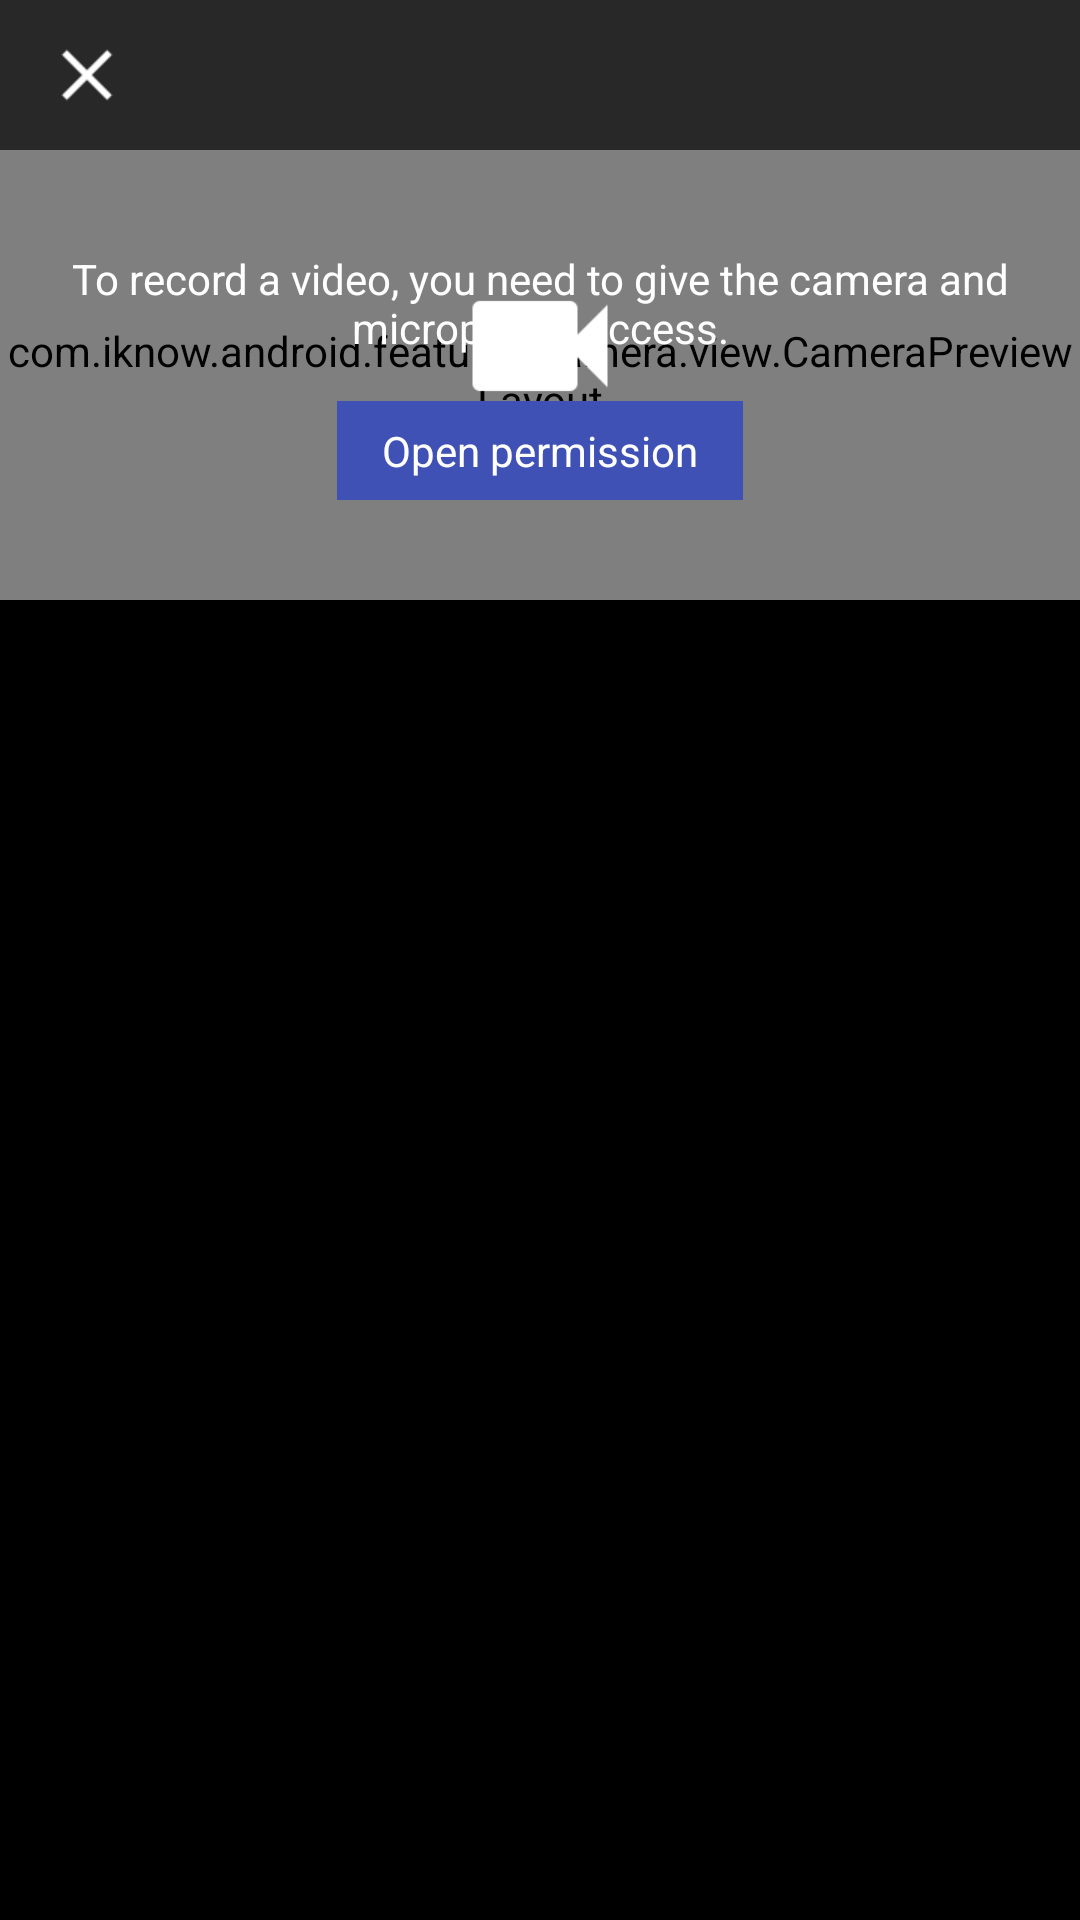

Named icons in this screenshot (1080px×1920px) and their bounding boxes, detection(x1, y1, x2, y2):
close: detection(61, 49, 113, 101)
